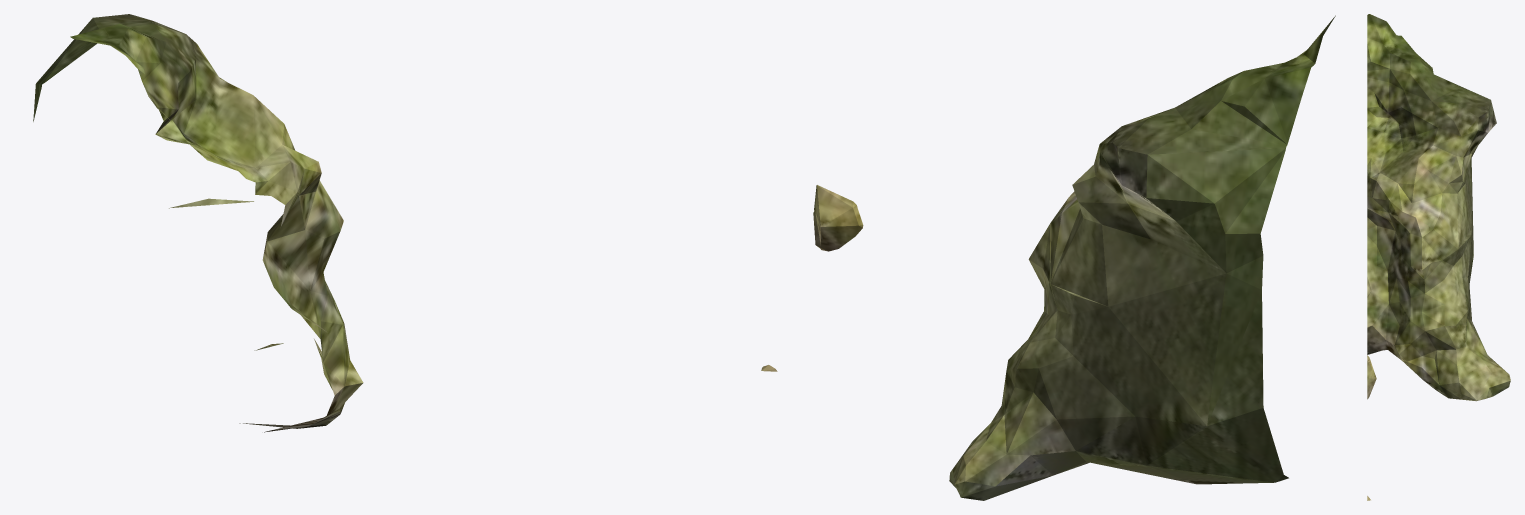
3 renders of one model, left to right at view 1: azimuth 30°, elevation 25°; view 2: azimuth 150°, elevation 25°; view 3: azimuth 270°, elevation 25°, orthographic. The views are drawn at different scales.
Size of the model in its own units: 2.86 by 2.35 by 0.9827.
2 materials, 2 textured.
